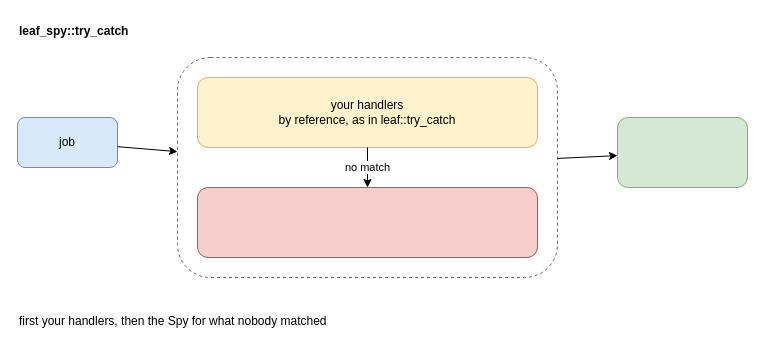
The diagram is 765 pixels wide and 354 high, and some of its shapes have lost their labels. Here are the shapes that lost their labels. From the top down, the box of each, then its label:
(616, 116, 748, 188): swallow, or pass up (is_throw_out)
(196, 186, 538, 258): Spy one handler by pointers: sees any set of types
